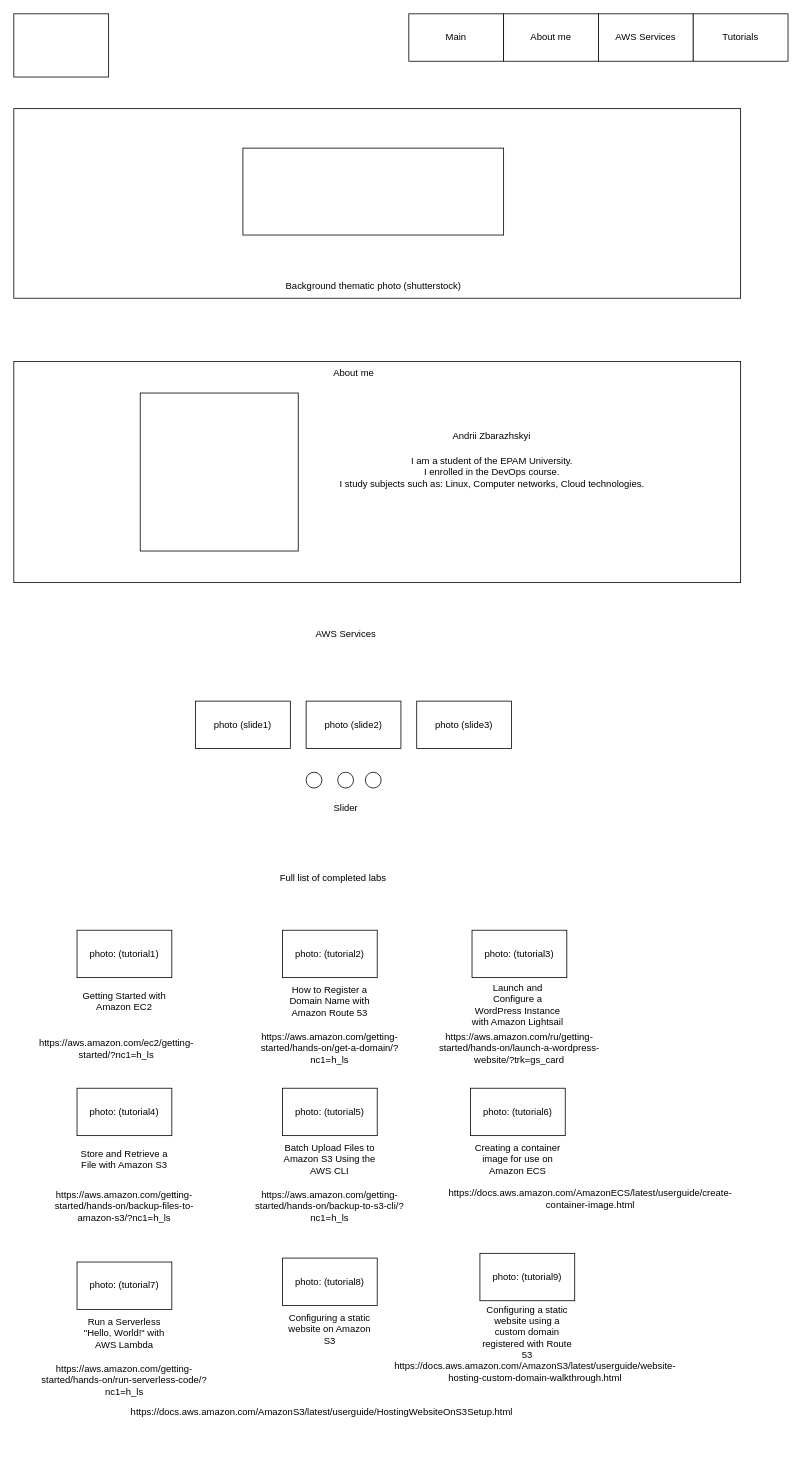
Some shapes in this 802 by 1458 pixel diagram are drawn without their labels. The shapes that lost their labels are listed below. From the top down, each one's centre as x and y in pixels, then its label:
the point at 61,45: EPAM logo photo (Epam_ Systems_Logo)
the point at 373,191: EPAM University Programs Cloud&DevOps Fundamentals Autumn 2022
the point at 218,471: photo (me)
